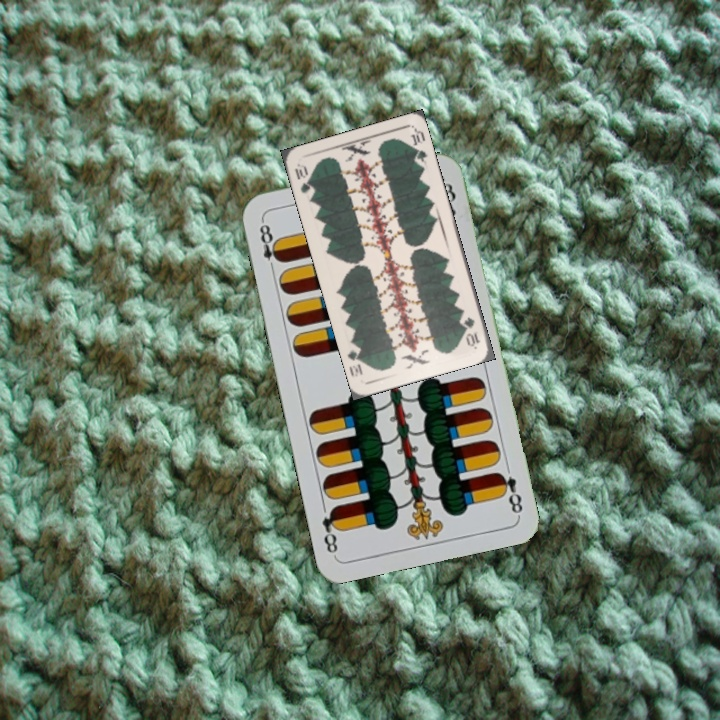E8: (255, 216, 285, 275), (493, 468, 526, 518)
G10: (459, 313, 483, 349), (291, 160, 315, 196)
